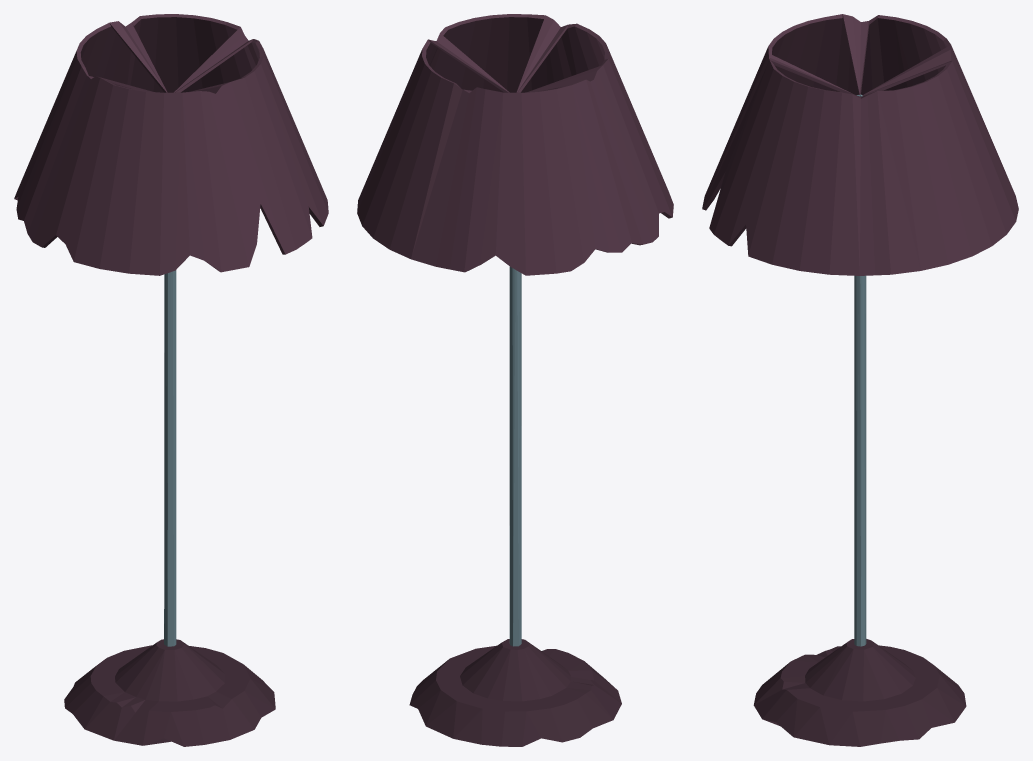
File: Lampe.fbx
The picture shows the model from 3 angles, left to right: view 1: azimuth 30°, elevation 25°; view 2: azimuth 150°, elevation 25°; view 3: azimuth 270°, elevation 25°; orthographic projection.
Parts seen in each view (by area): view 1: Cylinder; view 2: Cylinder; view 3: Cylinder.
Part boxes in pixels (x1,y1,x2,y2): Cylinder: (14, 14, 328, 746); Cylinder: (357, 14, 673, 746); Cylinder: (702, 14, 1018, 746).
Size of the model in its own units: 73.17 by 166 by 73.16.
